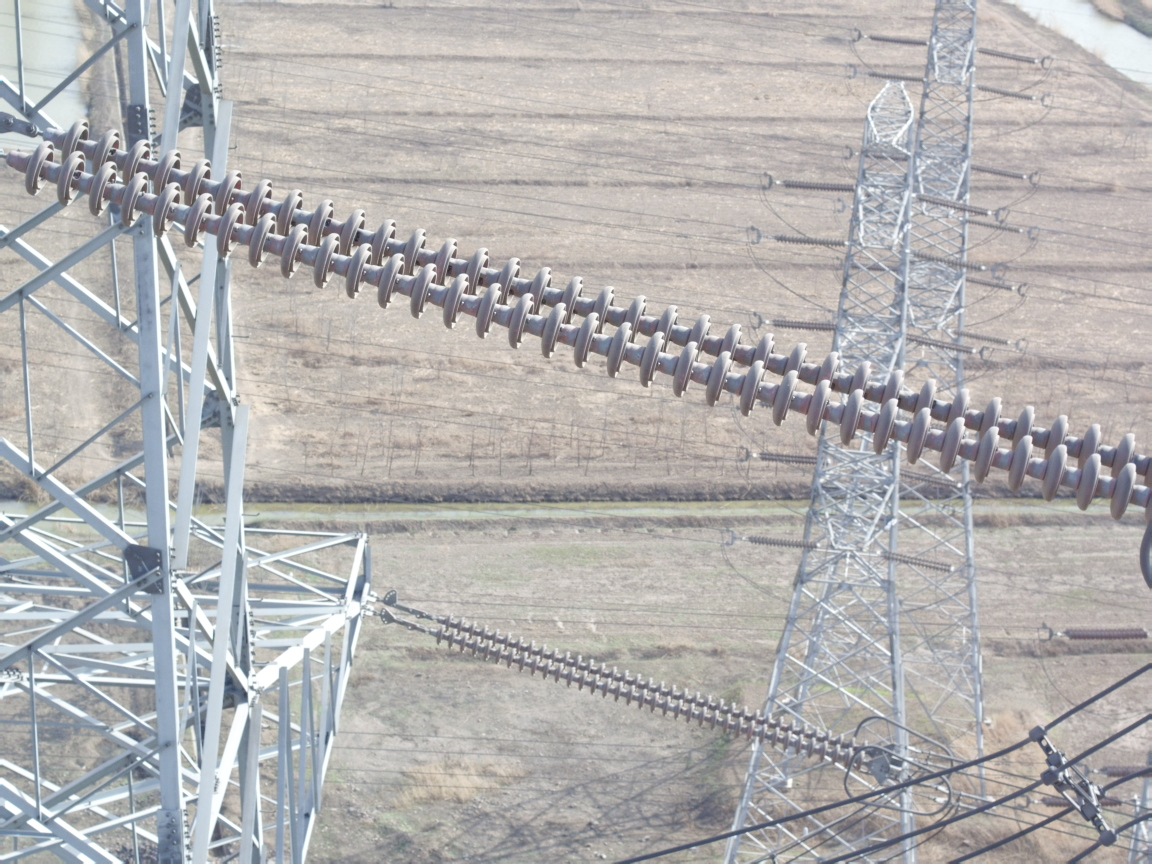insulator: (1, 112, 1152, 523), (405, 610, 885, 770)
